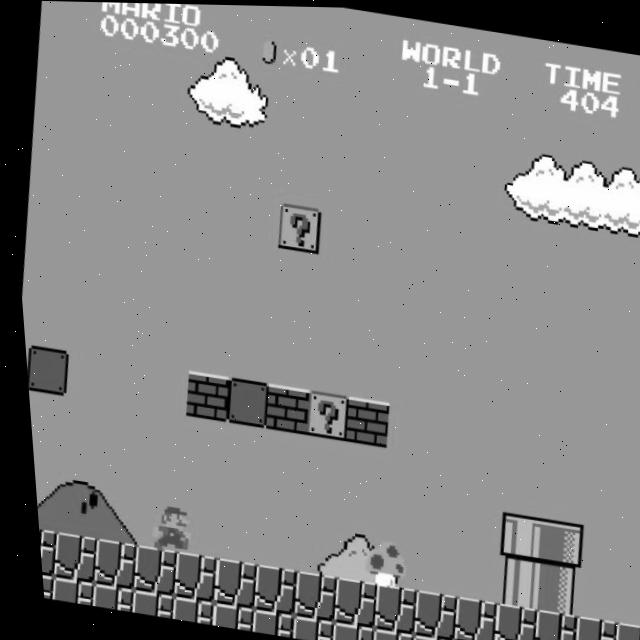1- brick_block: (176, 370, 226, 422), (336, 395, 386, 447), (257, 382, 306, 434)
11- little_mario: (138, 500, 190, 556)
12- mushroom: (350, 534, 402, 589)
13- mystery_block: (296, 388, 346, 440), (271, 202, 321, 253)
14- pipe: (485, 555, 535, 607), (525, 562, 575, 613)
15- pipe_head: (488, 510, 538, 562), (529, 516, 579, 568)
17- undestructible_block: (41, 532, 91, 584), (82, 538, 132, 590), (122, 544, 172, 596), (161, 550, 211, 602), (201, 557, 251, 609), (242, 563, 292, 615), (281, 569, 331, 621), (361, 582, 411, 634), (401, 588, 451, 640), (321, 576, 371, 627), (441, 594, 491, 640), (481, 601, 530, 640), (521, 606, 570, 640), (81, 583, 127, 612), (201, 602, 247, 631), (560, 613, 609, 640), (241, 608, 286, 637), (41, 577, 87, 605), (161, 596, 207, 624), (121, 590, 166, 618), (281, 614, 326, 640), (31, 526, 52, 577), (321, 620, 366, 640), (601, 619, 639, 640), (360, 627, 405, 640), (33, 571, 47, 599), (401, 633, 445, 640), (440, 639, 484, 640)
3- empty_block: (216, 376, 266, 428), (20, 344, 66, 396)
